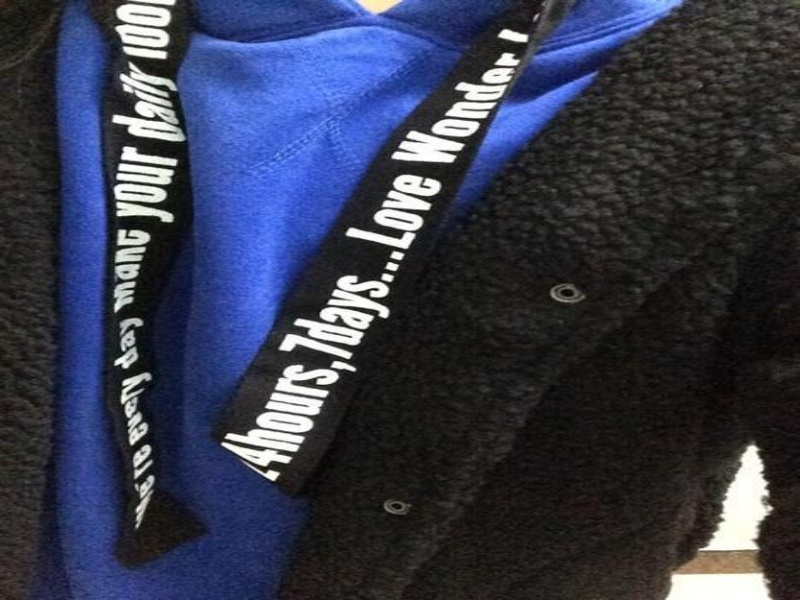long_sleeved_outwear: (2, 1, 795, 598)
